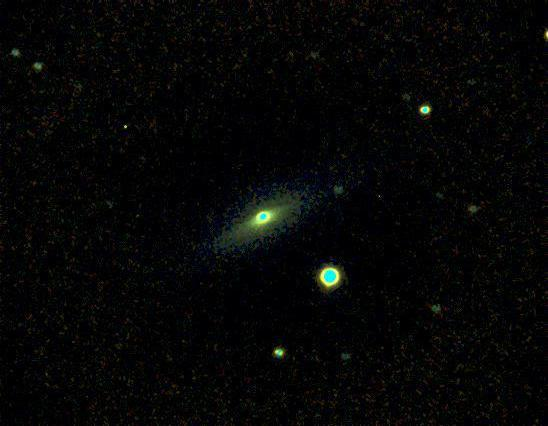star: (108, 106, 138, 136)
